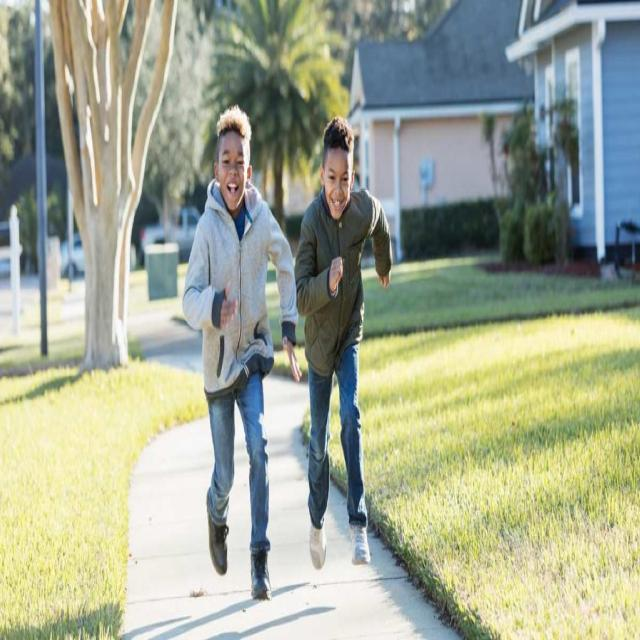Person: (182, 105, 302, 600), (294, 116, 393, 571)
